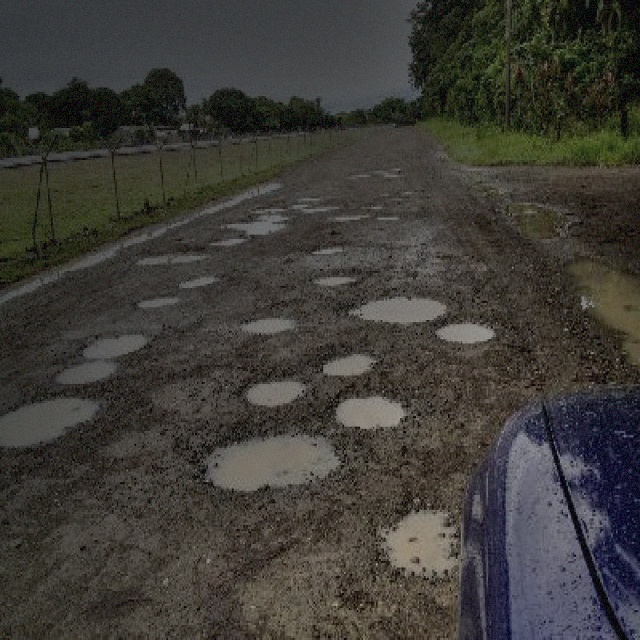pothole: (198, 424, 341, 493), (378, 504, 460, 580), (0, 393, 99, 448), (331, 388, 405, 429), (342, 294, 447, 320), (78, 328, 150, 361), (244, 374, 306, 406), (318, 348, 378, 380), (51, 359, 115, 386), (432, 318, 494, 343), (136, 244, 205, 262), (240, 314, 294, 335), (221, 215, 286, 232), (309, 269, 365, 286), (176, 271, 221, 286), (134, 292, 178, 307), (206, 232, 248, 245), (308, 241, 346, 254)
